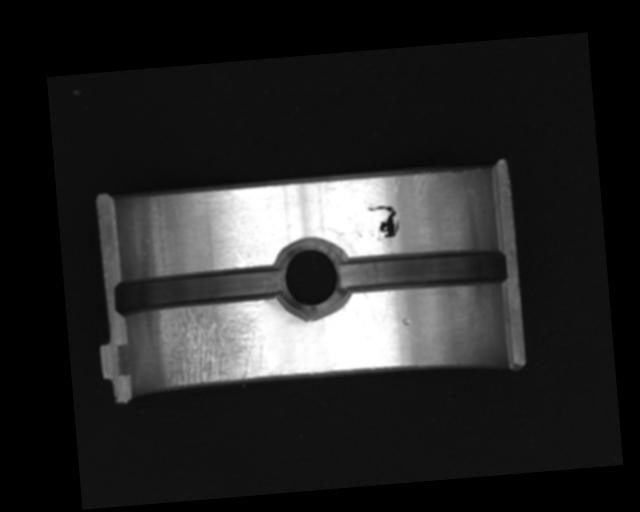blot: (365, 201, 402, 243)
bruise: (401, 317, 411, 326)
gap: (336, 244, 510, 299), (111, 266, 284, 314)
hole: (268, 236, 351, 322)
nick: (233, 249, 249, 269)
scratch: (146, 298, 275, 389)
